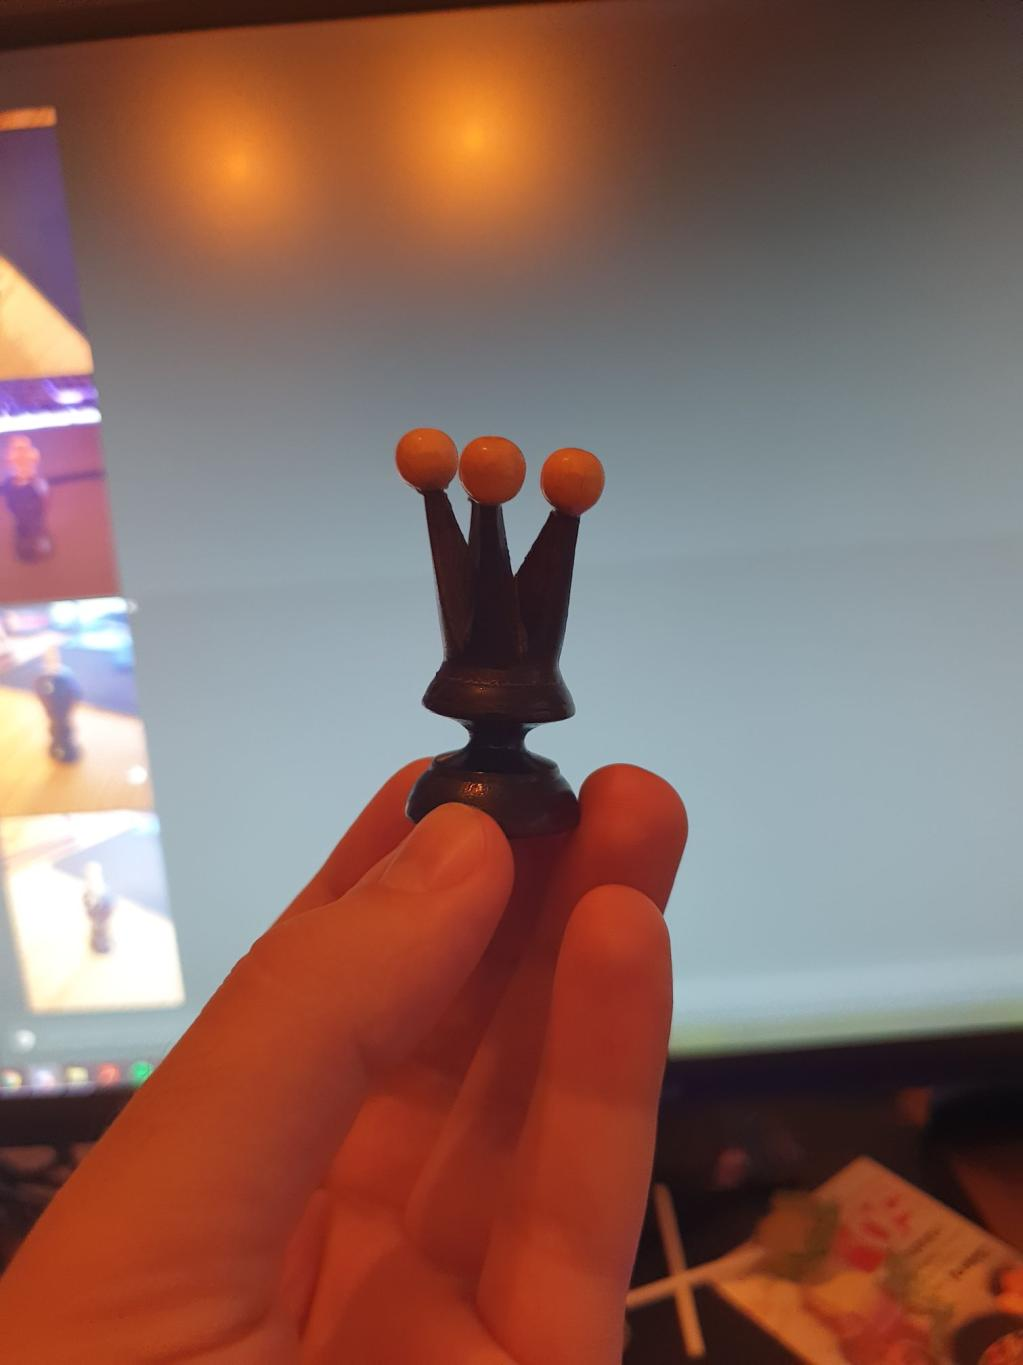bqueen: (397, 427, 605, 839)
